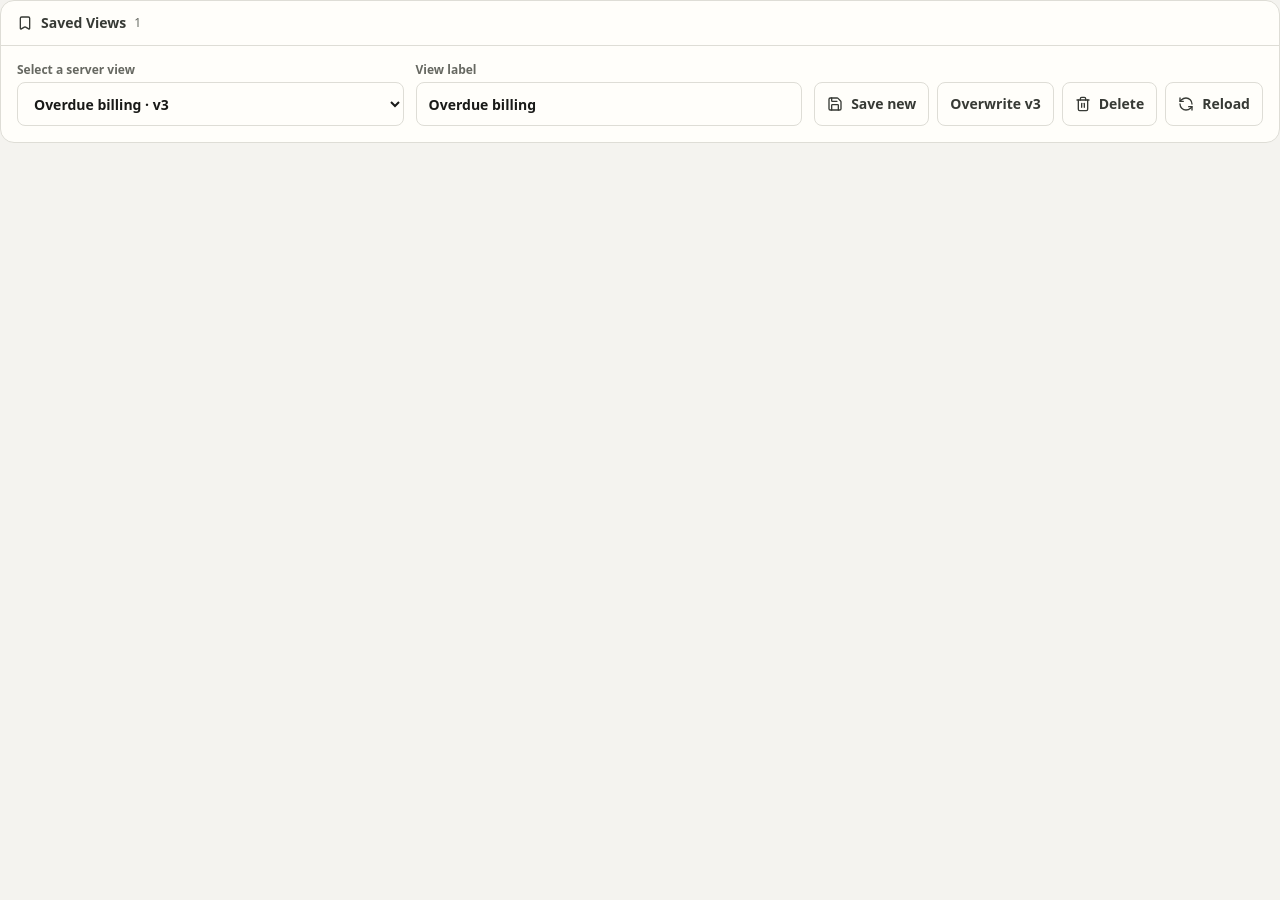
Test: collaboration write safety › requires the view name before deleting the operator's Saved View
Click the button "Delete". click: (1109, 104)
box: [1062, 82, 1157, 126]
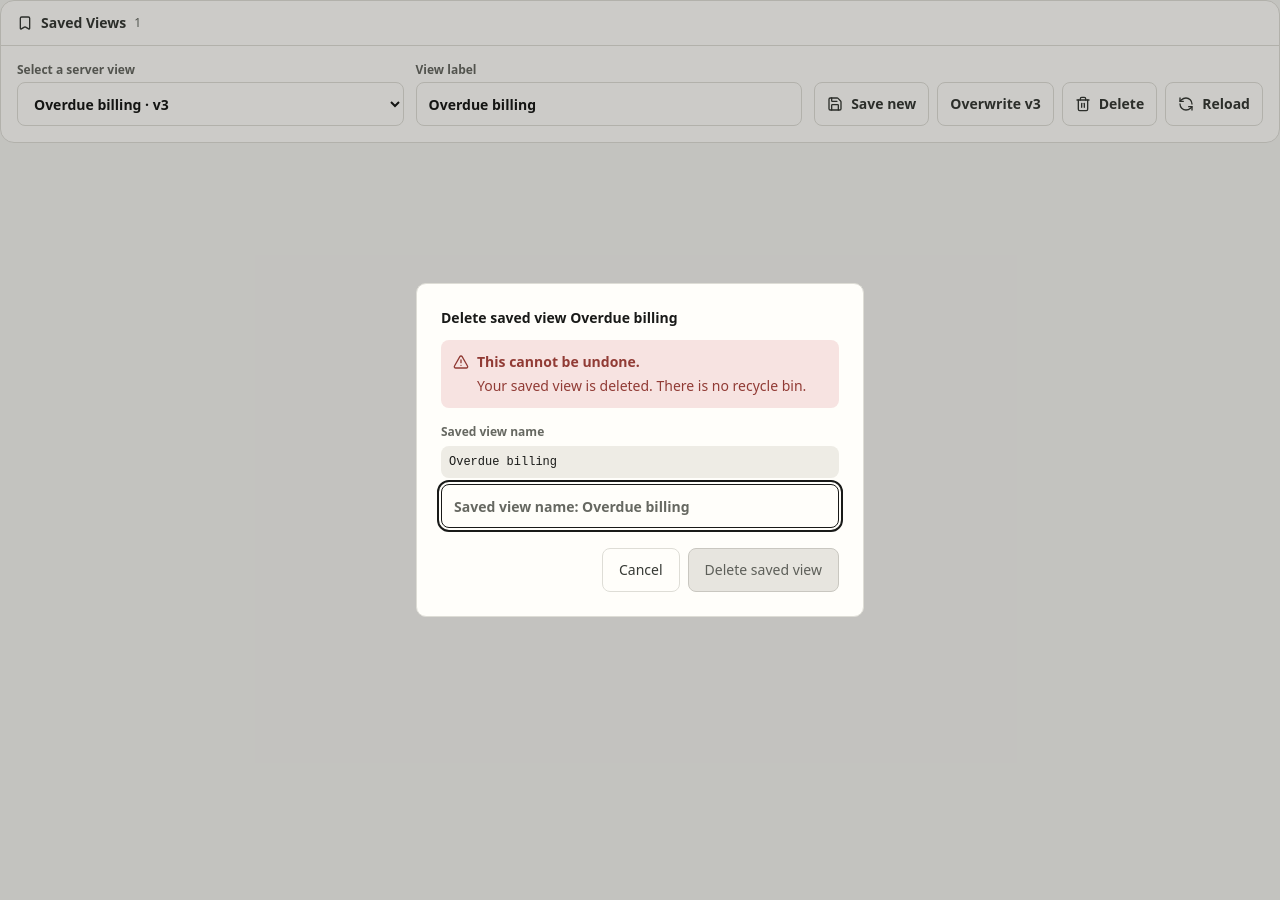
Expected: the dialog shows "Overdue billing", [449, 455, 557, 469]
Expected: the dialog shows "There is no recycle bin.", [477, 376, 806, 395]
Expected: the dialog shows "This cannot be undone.", [477, 352, 640, 371]
